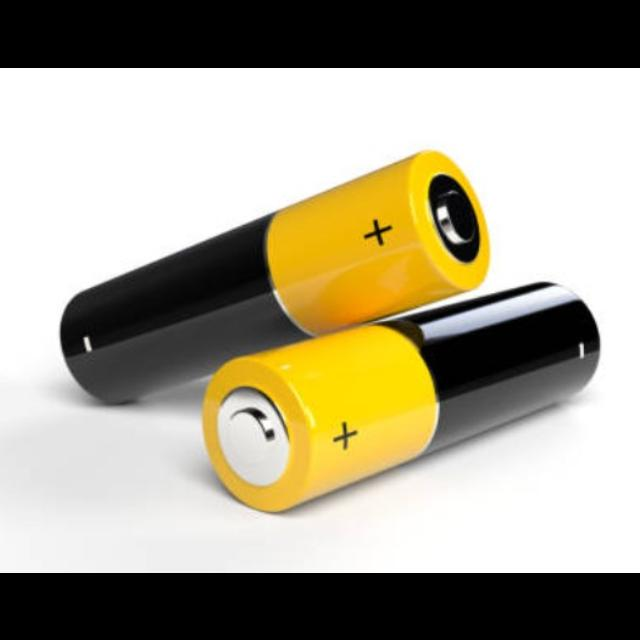Battery: (61, 150, 491, 402), (204, 283, 601, 511)
